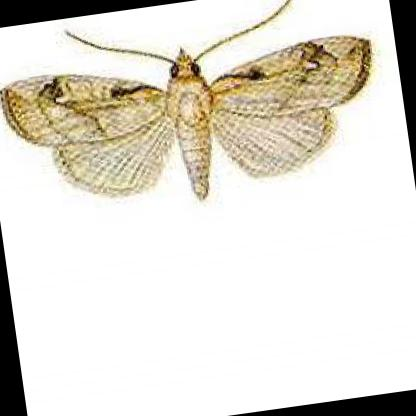Leaf Webber: (0, 39, 376, 205)
